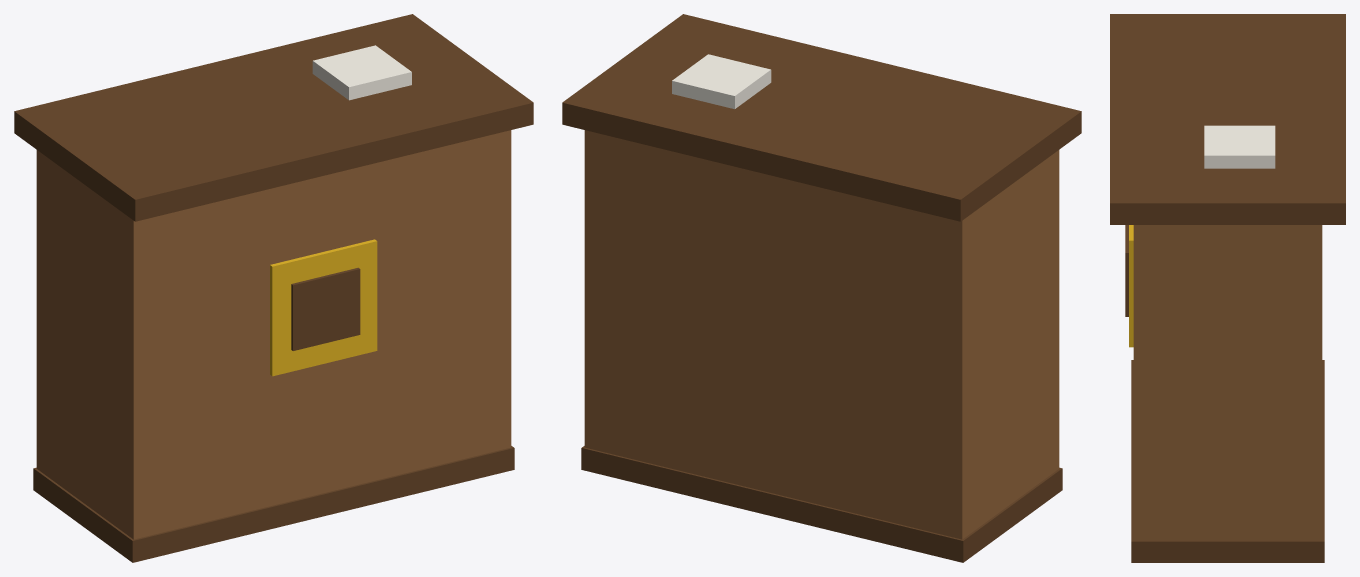
The model's file is judge_bench.glb.
3 views of the same model, side by side, from view 1: azimuth 30°, elevation 25°; view 2: azimuth 150°, elevation 25°; view 3: azimuth 270°, elevation 25° (orthographic). The views are drawn at different scales.
Visible parts, largest first — view 1: judge_bench; view 2: judge_bench; view 3: judge_bench.
Part boxes in pixels (x1,y1,x2,y2): judge_bench: (14,14,533,562); judge_bench: (562,14,1081,562); judge_bench: (1110,14,1345,562).
Bounding box in the file's own units: 0.95 × 0.88 × 0.5.
Materials: 1 (1 with a texture image).
